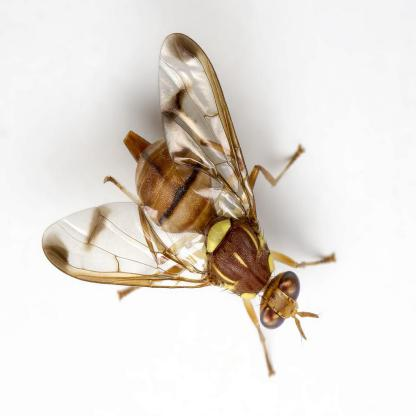fruit fly: (39, 34, 331, 332)
